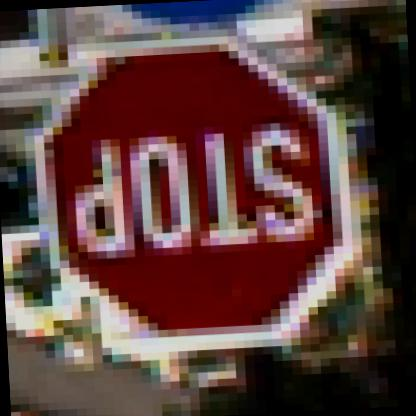stop: (33, 26, 359, 362)
